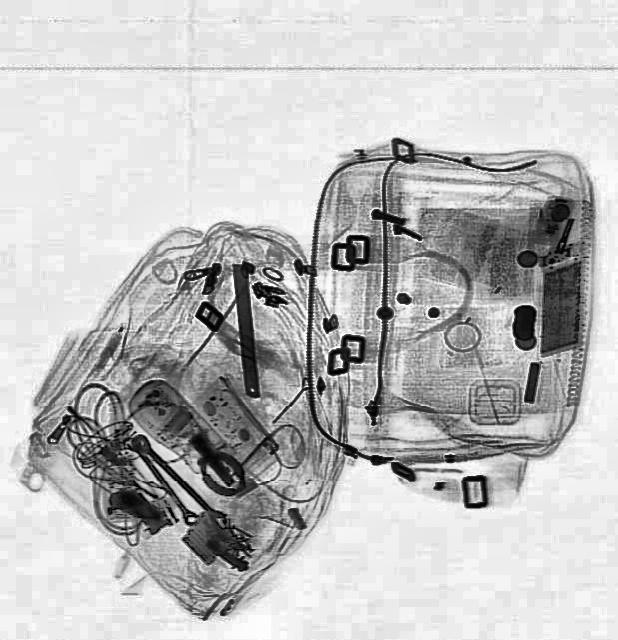Wrench: (124, 432, 204, 528)
